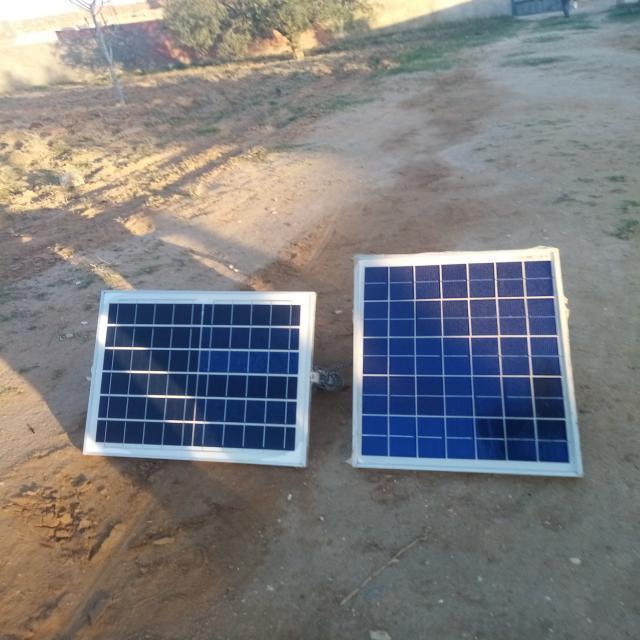Normal Solar Panel: (347, 254, 581, 475), (86, 292, 314, 465)
